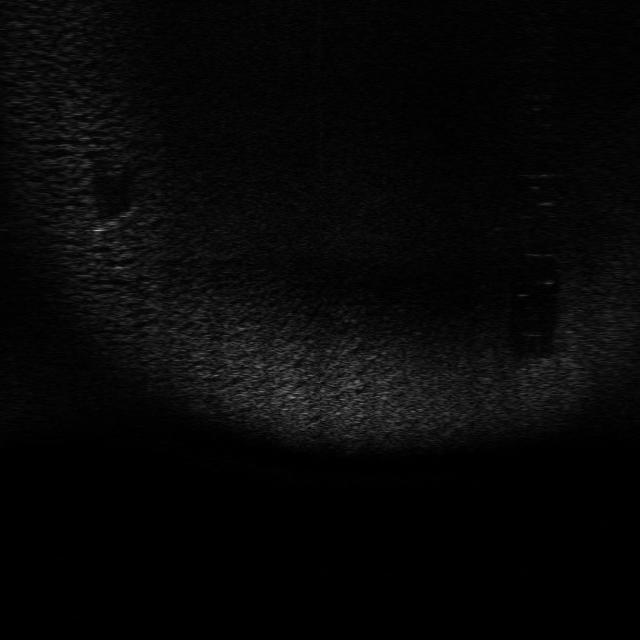plane: (82, 205, 147, 238)
